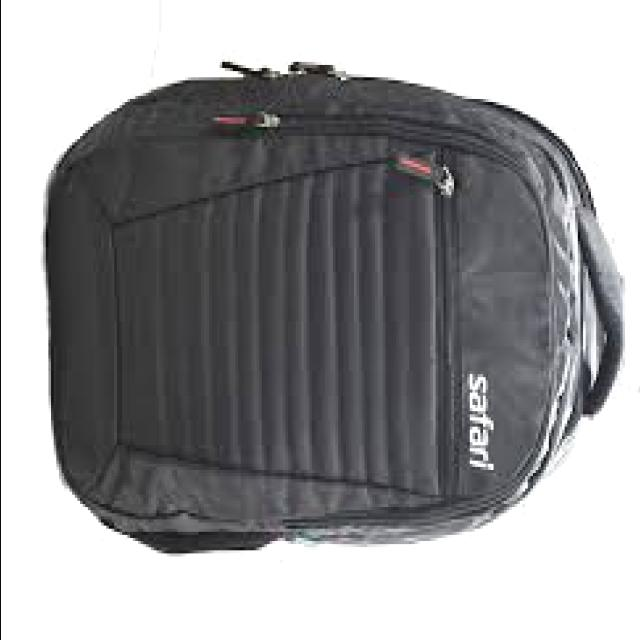backpack: (46, 60, 628, 554)
